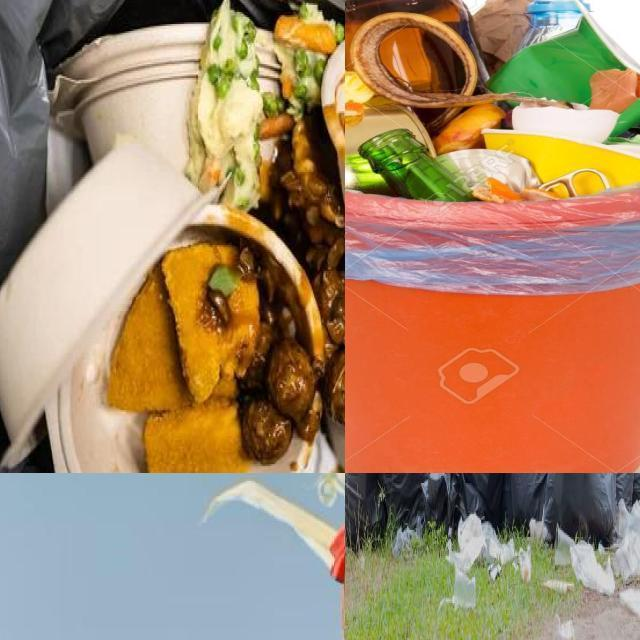Disposable: (0, 23, 325, 473), (46, 310, 151, 473), (257, 33, 280, 91)
Garbage: (0, 0, 345, 473), (345, 0, 640, 223), (345, 473, 640, 543)
Metal: (437, 149, 541, 192), (537, 168, 610, 196)
Plastic_Bag: (543, 473, 616, 541), (422, 473, 504, 524), (503, 473, 548, 524)
contaminated_waste: (345, 0, 487, 133), (359, 126, 477, 199), (516, 0, 586, 49)
